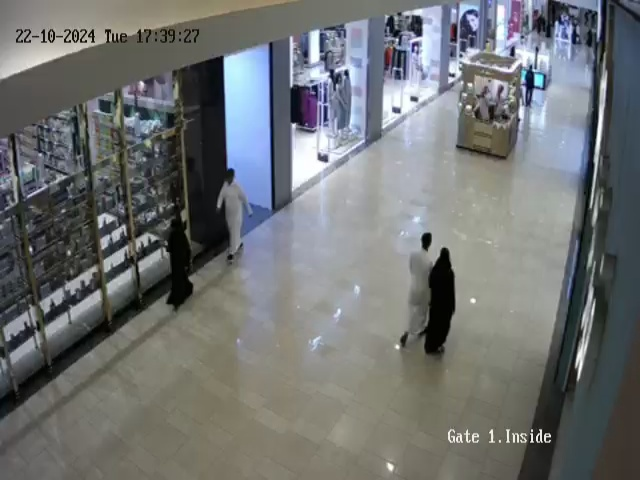employee: (480, 83, 508, 119)
female: (419, 247, 456, 355), (163, 217, 194, 311)
male: (399, 233, 434, 348), (216, 169, 253, 262), (522, 64, 543, 117)
other: (324, 44, 357, 156)
